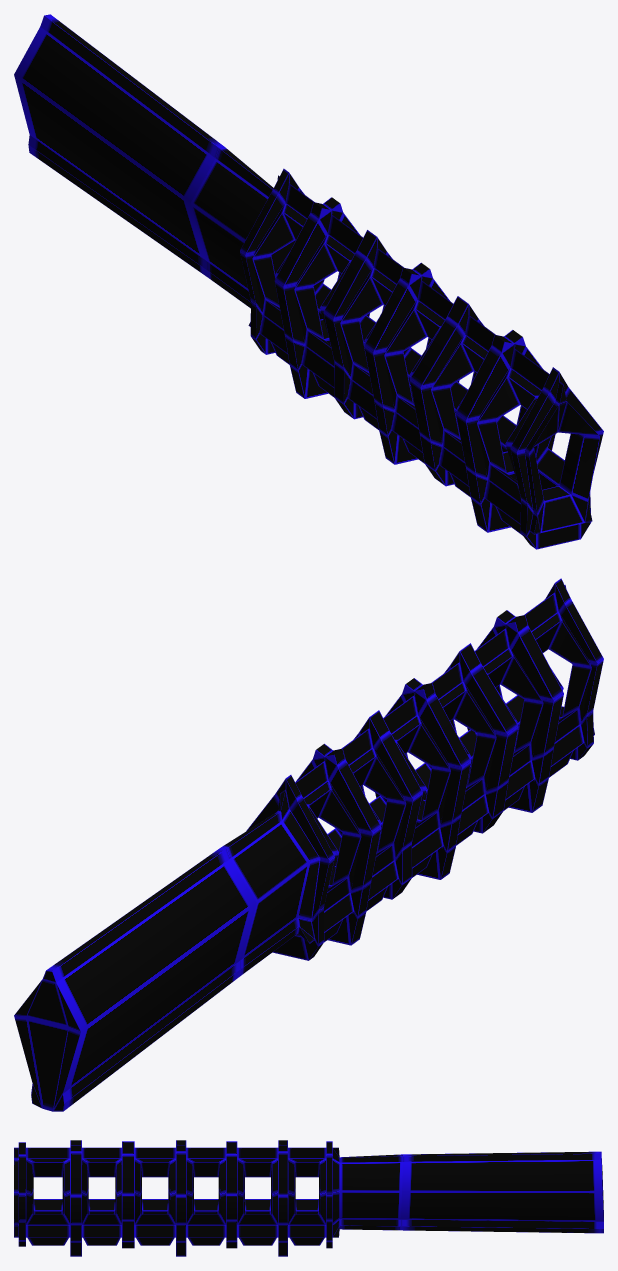
Rendered from Laser.fbx.
3 views of the same model, one above another, from view 1: azimuth 30°, elevation 25°; view 2: azimuth 150°, elevation 25°; view 3: azimuth 270°, elevation 25° (orthographic). The views are drawn at different scales.
Parts seen in each view (by area): view 1: pPyramid1; view 2: pPyramid1; view 3: pPyramid1.
Part boxes in pixels (x1,y1,x2,y2): pPyramid1: (14,14,603,549); pPyramid1: (14,578,603,1111); pPyramid1: (14,1140,603,1256).
Bounding box in the file's own units: 0.6193 × 1.15 × 5.66.
1 material, 1 textured.
